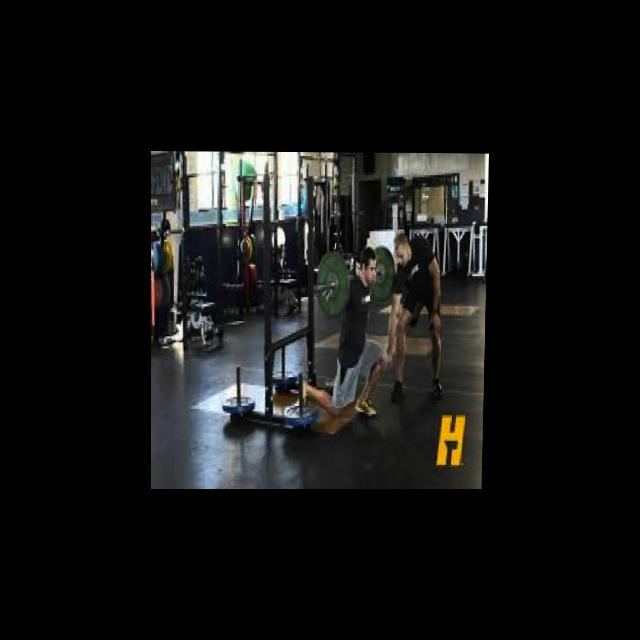barbell: (311, 249, 351, 320)
